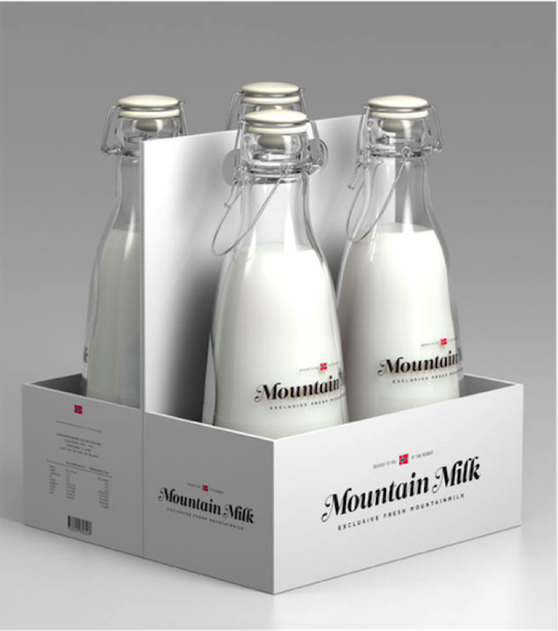milk: (206, 99, 353, 431), (337, 98, 483, 422), (80, 86, 140, 404)
